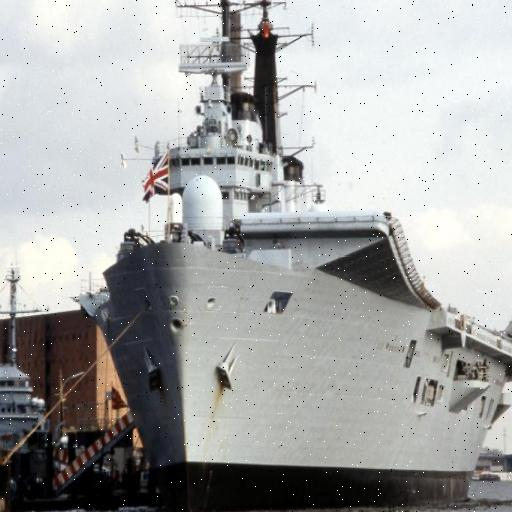Portanaves: (81, 1, 512, 509)
